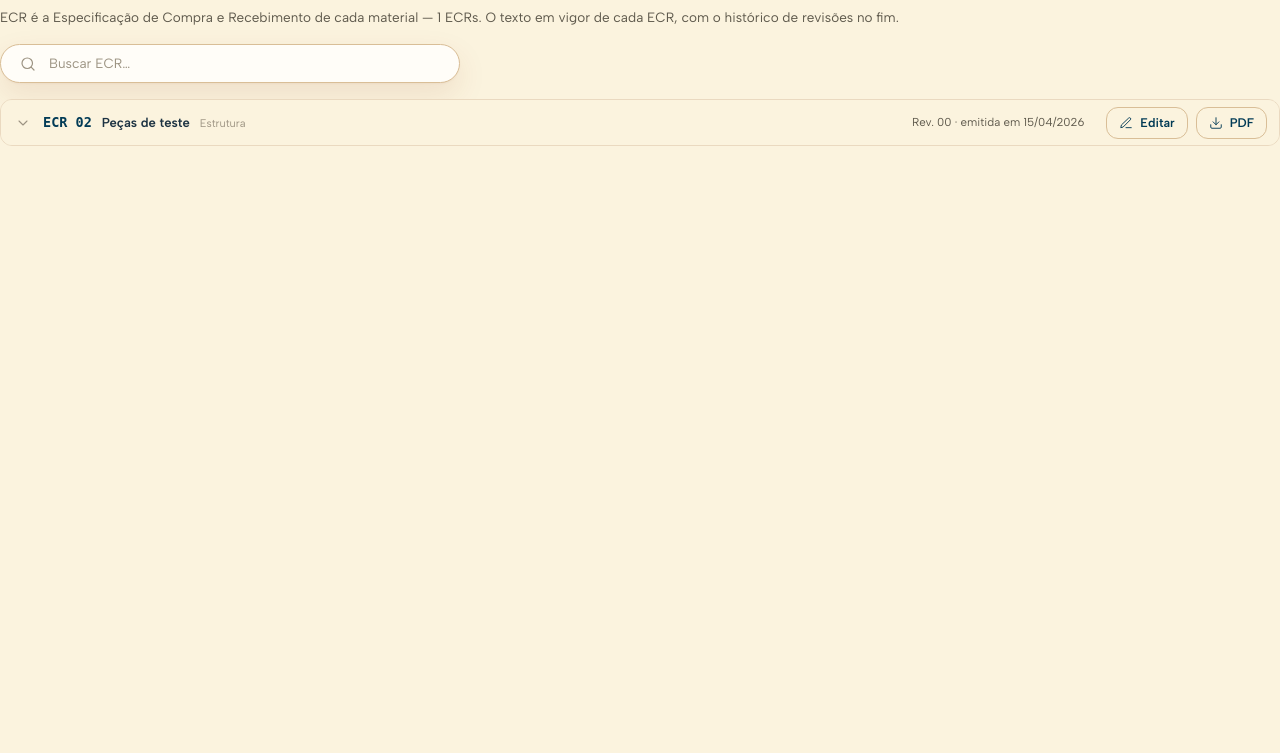
Test: D596 §3 (a proposta do §6) — a tela confere antes de mandar e aponta a linha › a linha "Dimensão" sem texto: aponta a linha pelo rótulo, põe o cursor nela, e nada vai ao banco
Click the button with aria-label "Editar a ECR 02": (1147, 123) [1106,107,1188,139]
(page scrolled)
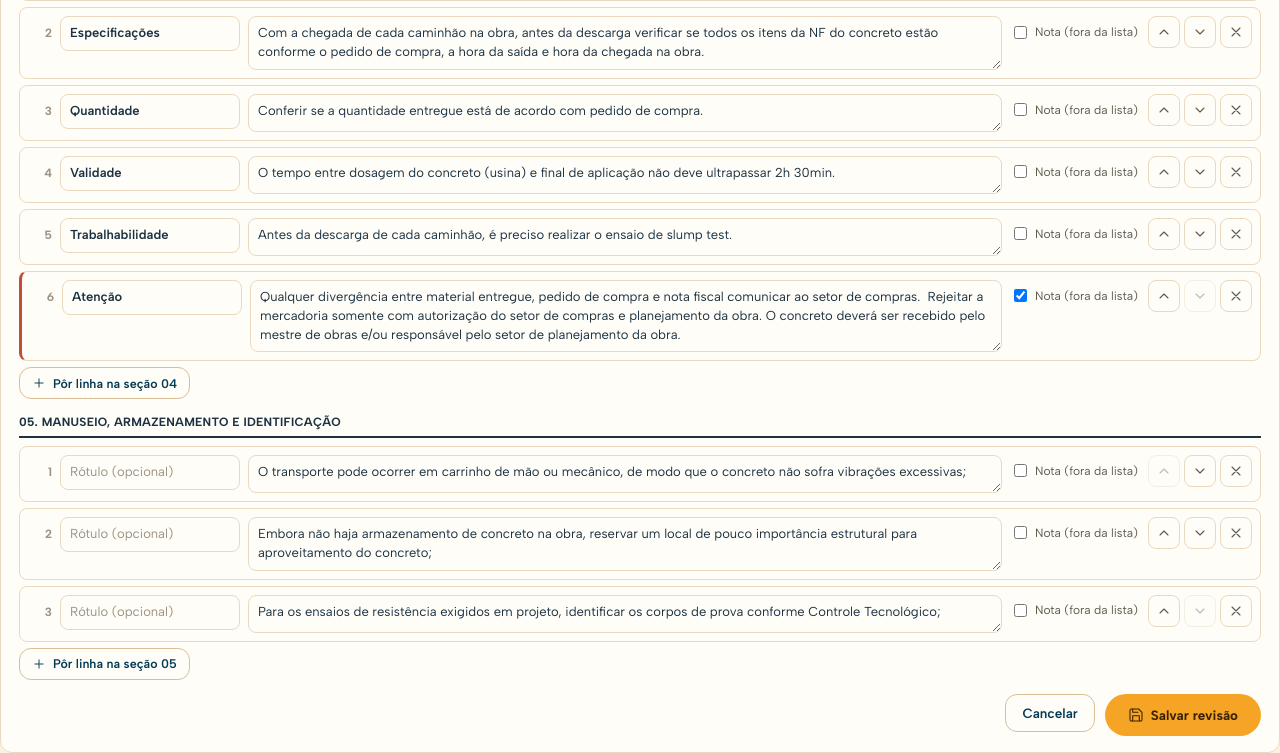
Click the button "Salvar revisão": (1183, 715) [1105,694,1261,736]
(page scrolled)
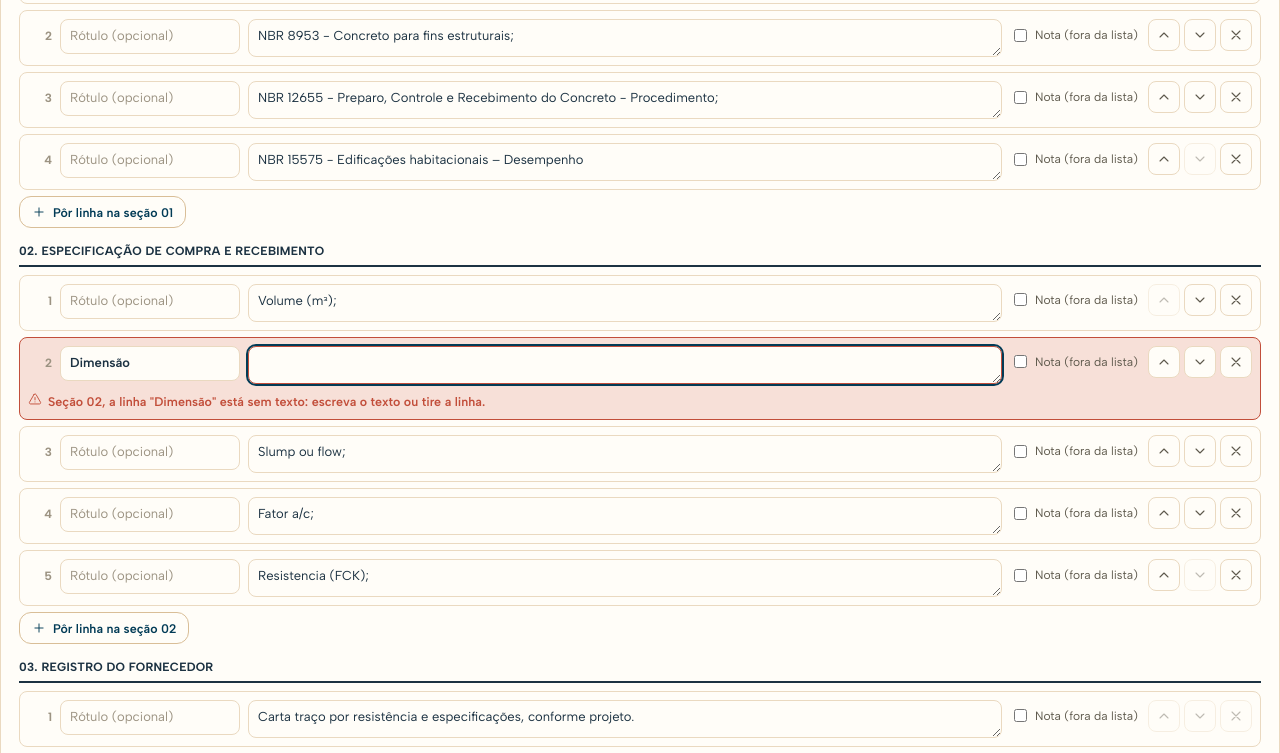
In the text box named "Texto da linha 2 da seção 02": (625, 365) [248,346,1002,384], type "Verificar as dimensões das peças."
(page scrolled)
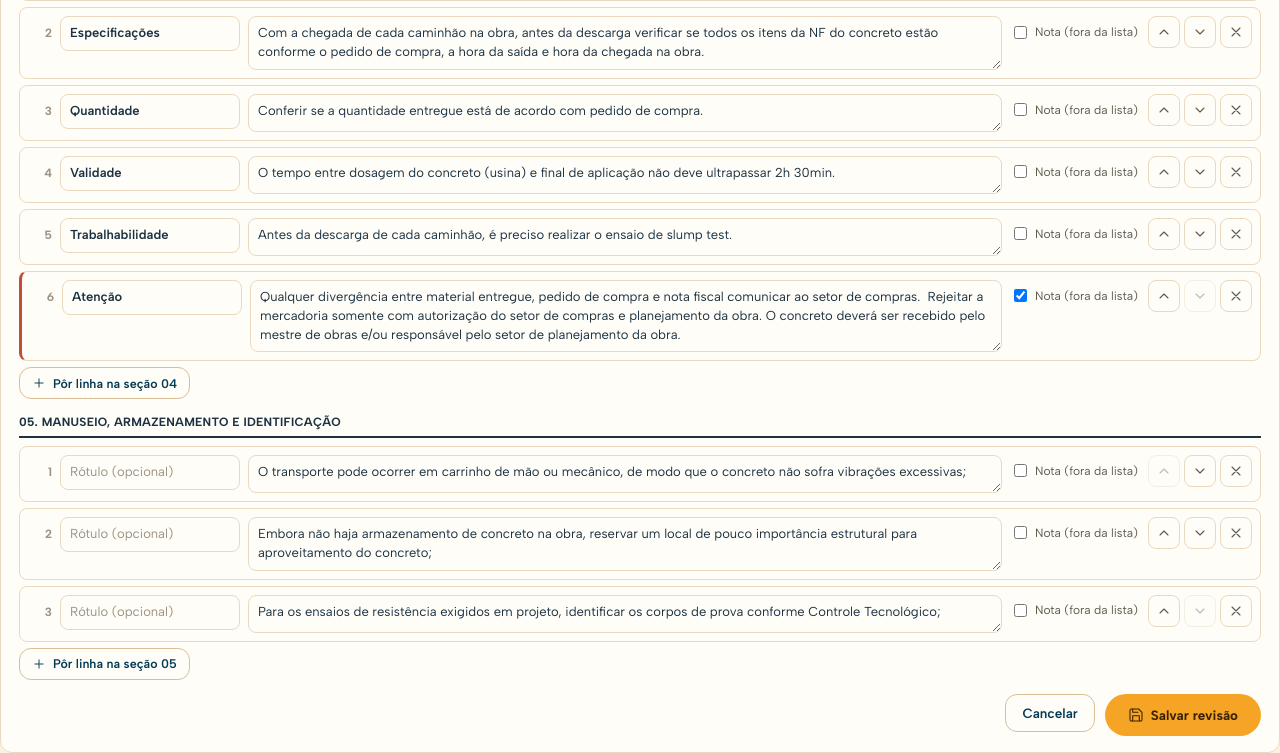
Click the button "Salvar revisão": (1183, 715) [1105,694,1261,736]
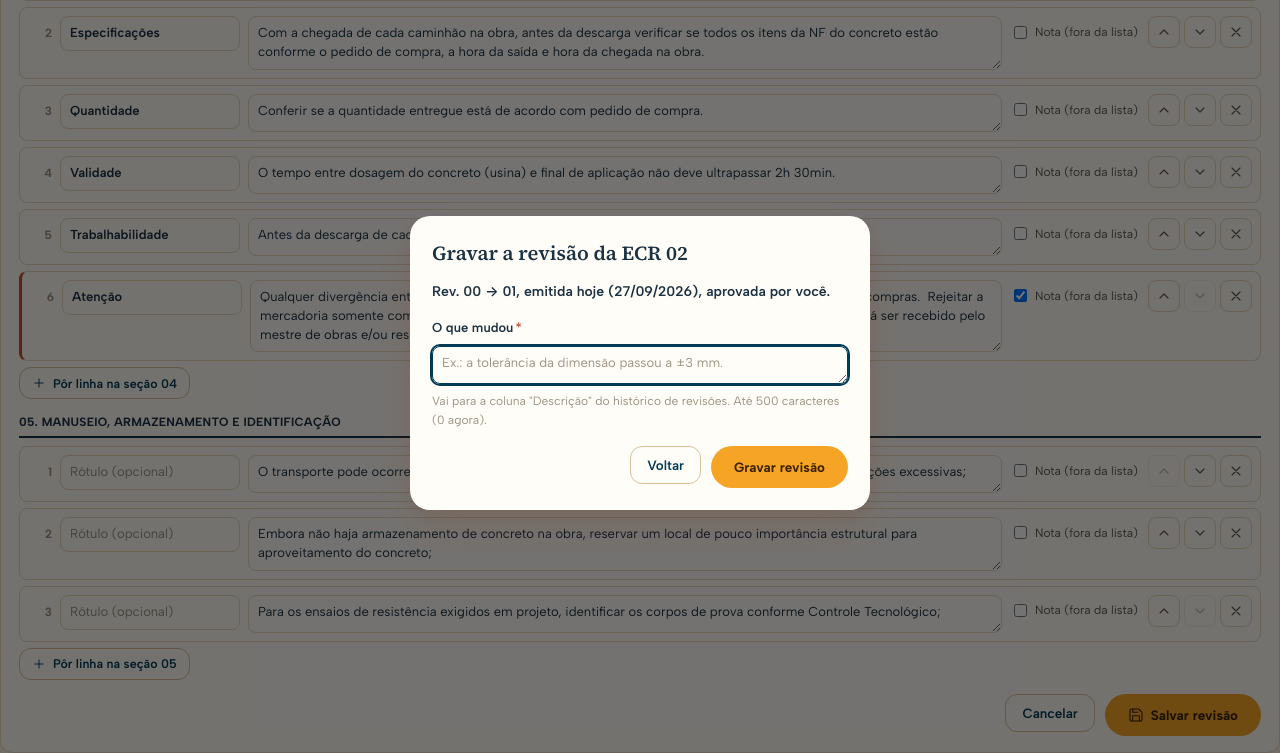
Expected: the element that starts with "Gravar a revisão da" is shown, [410,216,870,510]
